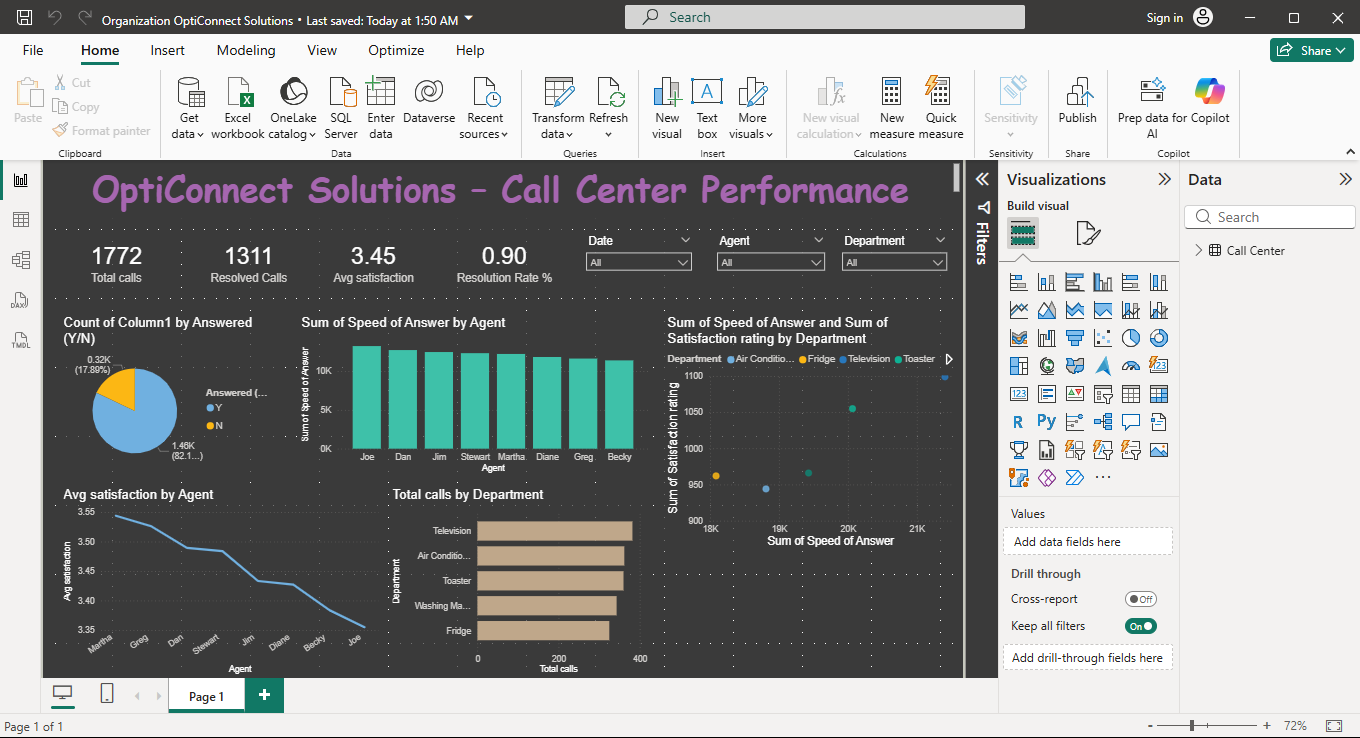

Layout of this report page (visuals, bound fields, positions):
{"tool":"powerbi","page":{"name":"Page 1","canvas":[1280,720],"ordinal":0},"visuals":[{"type":"card","fields":{"Values":["Call Center.Total calls"]},"box":[13.7,97.3,176.3,88.2],"z":0},{"type":"card","fields":{"Values":["Call Center.Resolved Calls"]},"box":[208.3,97.3,155.1,88.2],"z":1000},{"type":"card","fields":{"Values":["Call Center.Resolution Rate %"]},"box":[554.9,95.8,173.3,89.7],"z":2000},{"type":"card","fields":{"Values":["Call Center.Avg satisfaction"]},"box":[378.5,95.8,162.7,89.7],"z":3000},{"type":"pieChart","fields":{"Y":["CountNonNull(Call Center.Column1)"],"Category":["Call Center.Answered (Y/N)"]},"box":[24.3,215.9,307.1,225],"z":4000},{"type":"clusteredColumnChart","fields":{"Category":["Call Center.Agent"],"Y":["Sum(Call Center.Speed of Answer)"]},"box":[354.2,215.9,492.5,225],"z":5000},{"type":"clusteredBarChart","fields":{"Category":["Call Center.Department"],"Y":["Call Center.Total calls"]},"box":[481.9,454.5,364.8,266],"z":6000},{"type":"scatterChart","fields":{"X":["Sum(Call Center.Speed of Answer)"],"Y":["Sum(Call Center.Satisfaction rating)"],"Series":["Call Center.Department"]},"box":[864.3,215.7,415.7,328.6],"z":7000},{"type":"lineChart","fields":{"Category":["Call Center.Agent"],"Y":["Call Center.Avg satisfaction"]},"box":[24.3,454.5,448.5,266],"z":8000},{"type":"slicer","fields":{"Values":["Call Center.Agent"]},"box":[927.3,98.8,170.3,86.7],"z":9000},{"type":"slicer","fields":{"Values":["Call Center.Date"]},"box":[746.4,98.8,167.2,86.7],"z":10000},{"type":"slicer","fields":{"Values":["Call Center.Department"]},"box":[1102.1,98.8,165.7,86.7],"z":11000},{"type":"textbox","box":[0,0,1280,82.1],"z":11001}]}

Visuals, with their boxes on the page's 1280x720 design canvas (x1, y1, x2, y2). These are canvas units, not pixel positions in the 1360x738 screenshot, which may show the page scaled, cropped or inside an application window:
card - Call Center.Total calls: bbox(14, 97, 190, 186)
card - Call Center.Resolved Calls: bbox(208, 97, 363, 186)
card - Call Center.Resolution Rate %: bbox(555, 96, 728, 186)
card - Call Center.Avg satisfaction: bbox(378, 96, 541, 186)
pieChart - CountNonNull(Call Center.Column1) x Call Center.Answered (Y/N): bbox(24, 216, 331, 441)
clusteredColumnChart - Call Center.Agent x Sum(Call Center.Speed of Answer): bbox(354, 216, 847, 441)
clusteredBarChart - Call Center.Department x Call Center.Total calls: bbox(482, 454, 847, 720)
scatterChart - Sum(Call Center.Speed of Answer) x Sum(Call Center.Satisfaction rating): bbox(864, 216, 1280, 544)
lineChart - Call Center.Agent x Call Center.Avg satisfaction: bbox(24, 454, 473, 720)
slicer - Call Center.Agent: bbox(927, 99, 1098, 186)
slicer - Call Center.Date: bbox(746, 99, 914, 186)
slicer - Call Center.Department: bbox(1102, 99, 1268, 186)
textbox: bbox(0, 0, 1280, 82)
